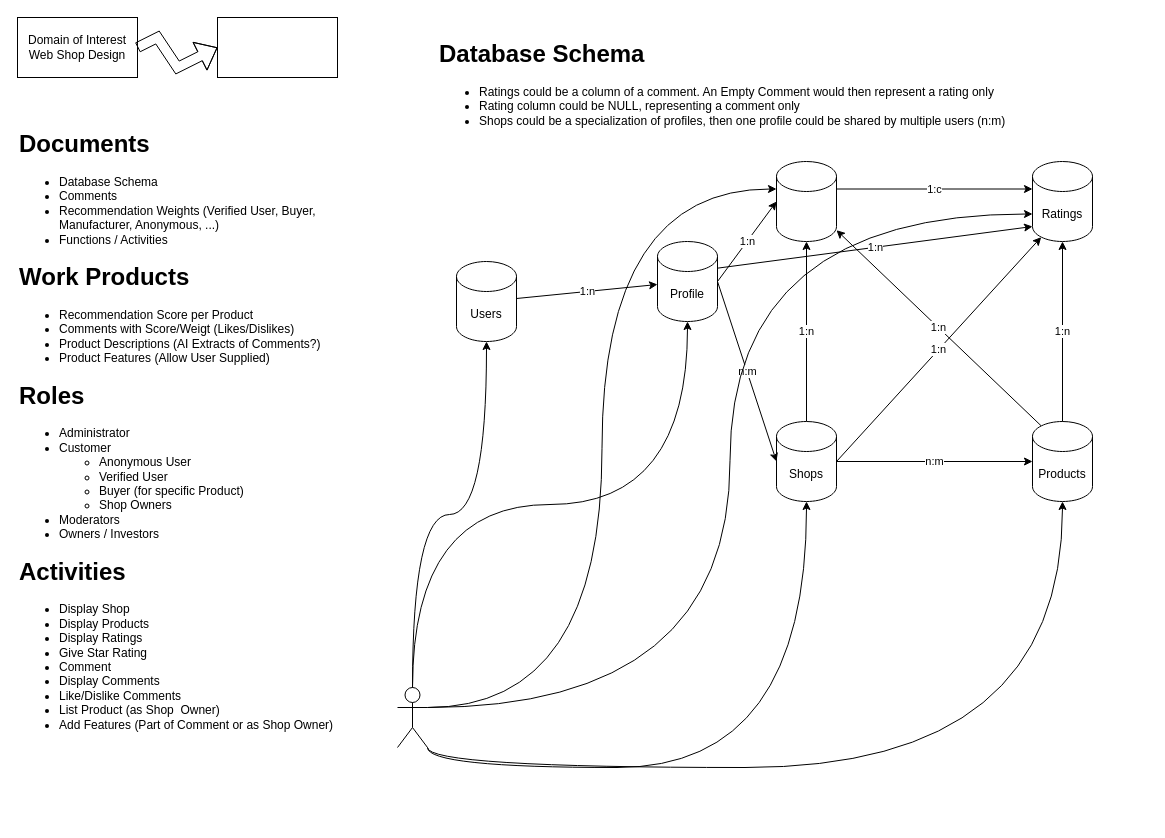
Image size: 1165x838. Some labels were removed from this diagram. The centre of each missing label's shape, as x and y in pixels:
Actor: (x=412, y=717)
Comments: (x=806, y=201)
Process Area Recommendations: (x=277, y=47)
